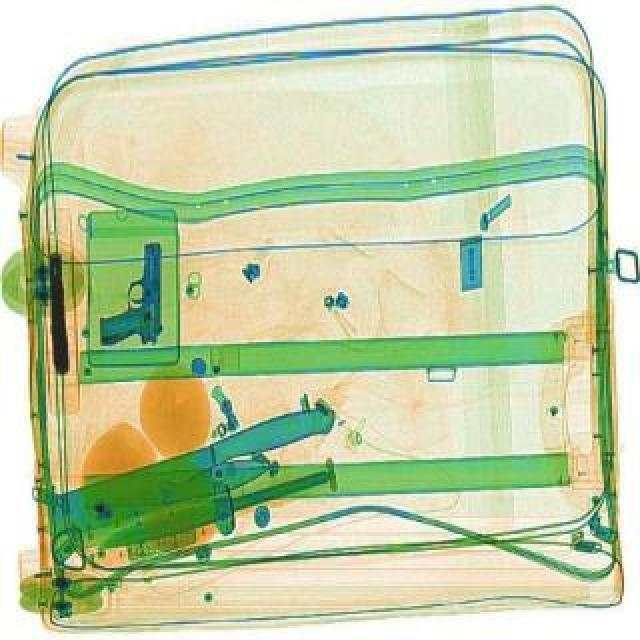gun: (92, 238, 166, 344), (42, 250, 70, 374)
knife: (36, 396, 356, 556), (94, 460, 334, 554), (52, 448, 276, 536)
